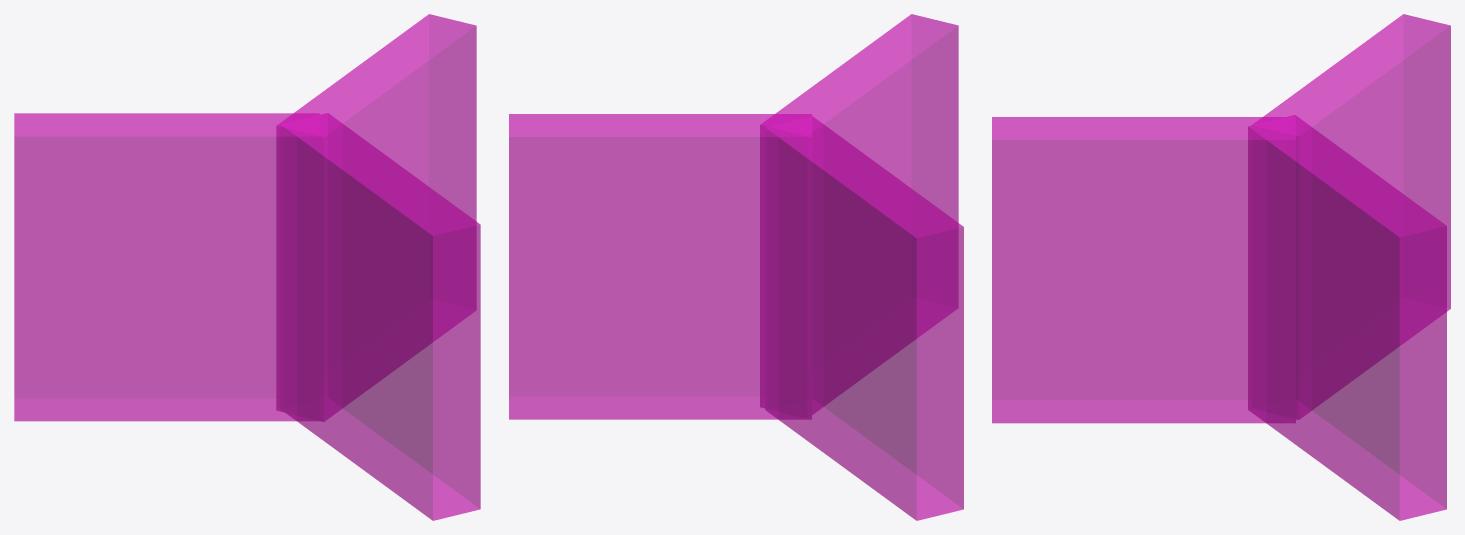
Rendered from SM_Bld_Entrance_Doors_01_Collision.fbx.
The picture shows the model from 3 angles, left to right: view 1: azimuth 30°, elevation 25°; view 2: azimuth 150°, elevation 25°; view 3: azimuth 270°, elevation 25°; orthographic projection.
Visible parts, largest first — view 1: SM_Bld_Entrance_Doors_01_Collision; view 2: SM_Bld_Entrance_Doors_01_Collision; view 3: SM_Bld_Entrance_Doors_01_Collision.
Boxes of the visible parts, x1,y1,x2,y2 form: SM_Bld_Entrance_Doors_01_Collision: (14, 14, 480, 520); SM_Bld_Entrance_Doors_01_Collision: (509, 14, 963, 520); SM_Bld_Entrance_Doors_01_Collision: (992, 14, 1450, 520).
Bounding box in the file's own units: 408 × 241 × 354.
